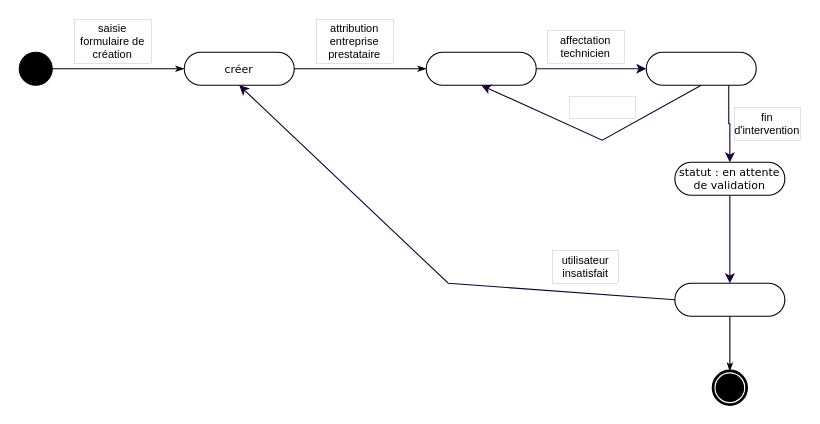
Image size: 820x424. Some labels were removed from this diagram. The centre of each missing label's shape, as x and y in pixels:
réattribution: (x=602, y=107)
statut : clôturé: (x=729, y=299)
statut : en attente d'affectation: (x=480, y=68)
statut : pris en charge: (x=700, y=68)
